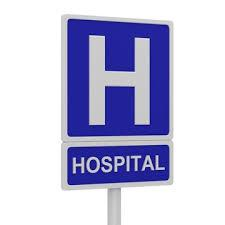Hospital: (50, 7, 182, 186)
